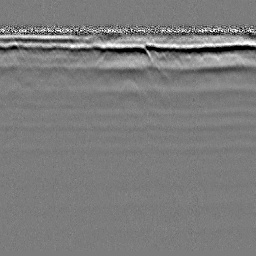cavity: (113, 78, 143, 104)
